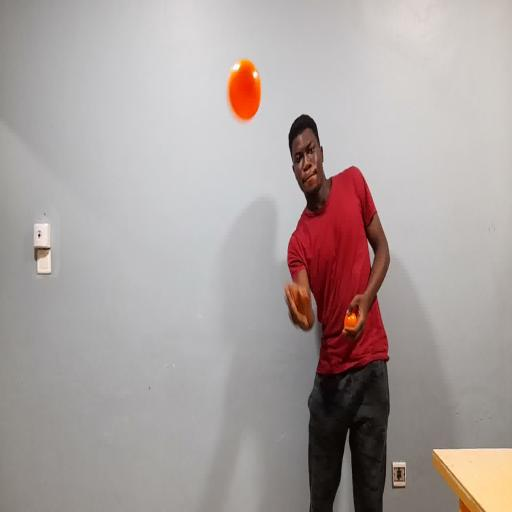plastic-ball: (223, 50, 267, 132)
